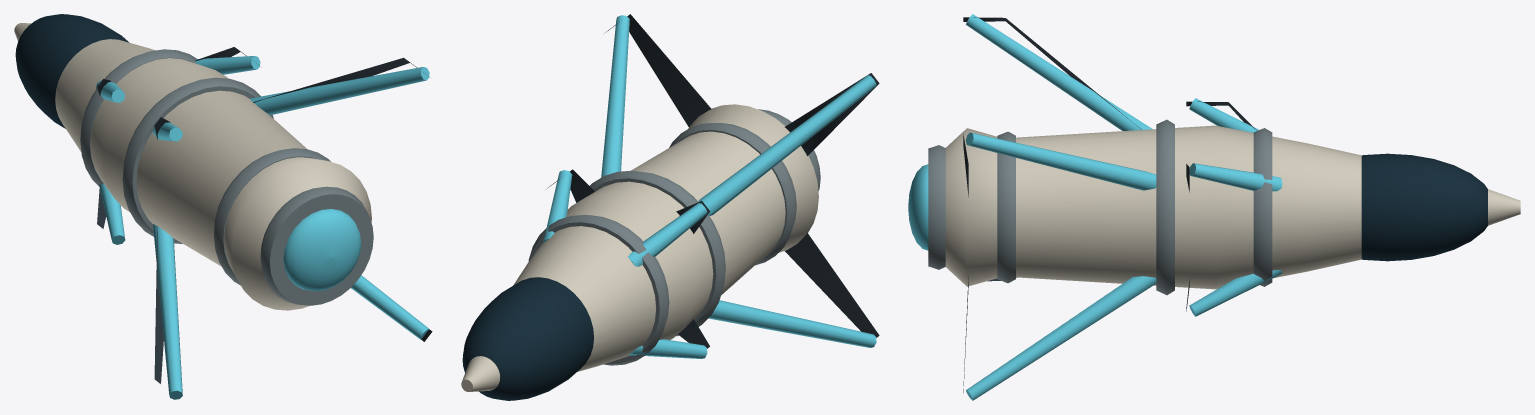
File: interceptor_round.glb
The picture shows the model from 3 angles, left to right: view 1: azimuth 30°, elevation 25°; view 2: azimuth 150°, elevation 25°; view 3: azimuth 270°, elevation 25°; orthographic projection.
Parts seen in each view (by area): view 1: interceptor_round; view 2: interceptor_round; view 3: interceptor_round.
Boxes of the visible parts, left/top/right/bottom form: interceptor_round: left=14, top=14, right=432, bottom=399; interceptor_round: left=461, top=14, right=879, bottom=400; interceptor_round: left=908, top=14, right=1520, bottom=400.
Bounding box in the file's own units: 1.15 × 1.15 × 2.39.
